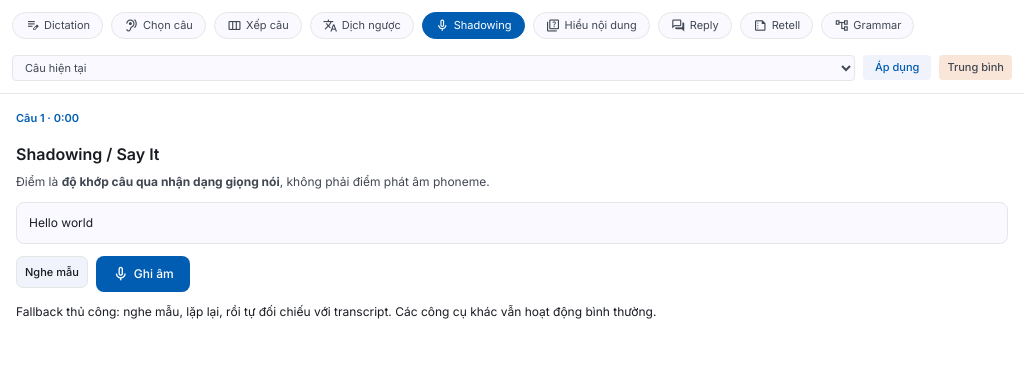
VideoPracticePanel › falls back without locking other tools when speech recognition is unsupported
Expected: the text "Fallback thủ công" is shown, [16,304,656,319]
Click the button "Ghi âm" at (143, 274), box [96,256,190,292]
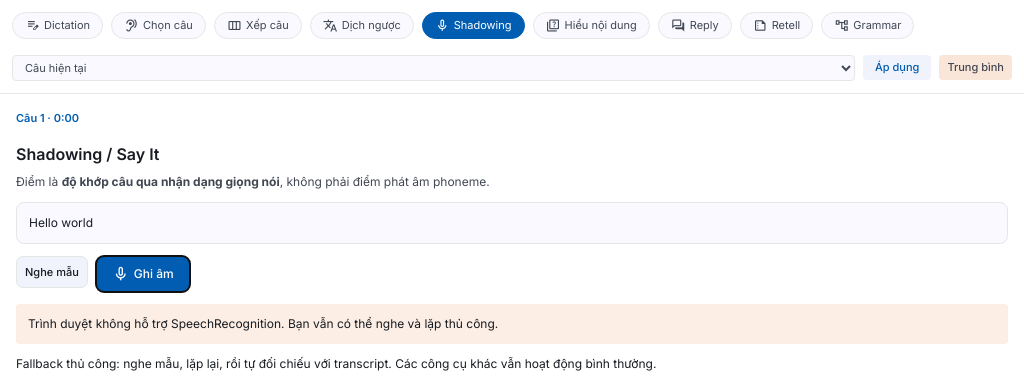
Expected: the tab "Dictation" is enabled, [12,12,103,38]
Expected: the text "không hỗ trợ SpeechRecognition" is shown, [28,316,498,331]
